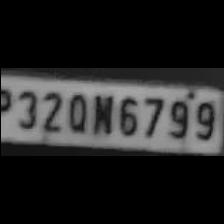2: (36, 88, 62, 134)
3: (10, 86, 38, 130)
6: (113, 92, 140, 138)
7: (139, 94, 164, 140)
9: (162, 96, 190, 140), (190, 96, 216, 142)
N: (88, 91, 114, 136)
Q: (61, 90, 88, 134)
